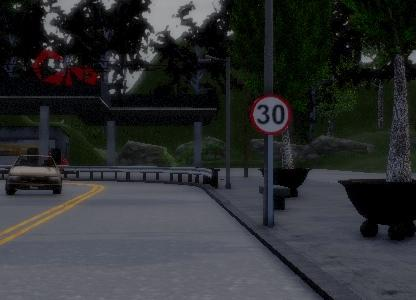Speed_30: (251, 95, 293, 136)
